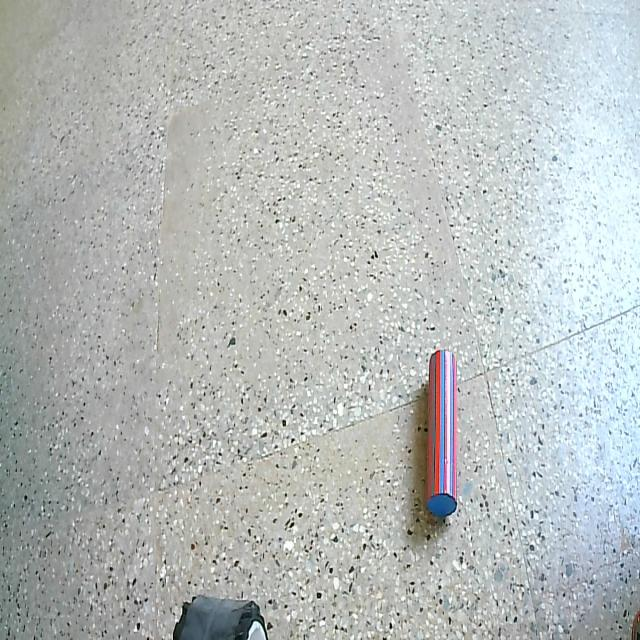cylinder: (417, 343, 469, 525)
